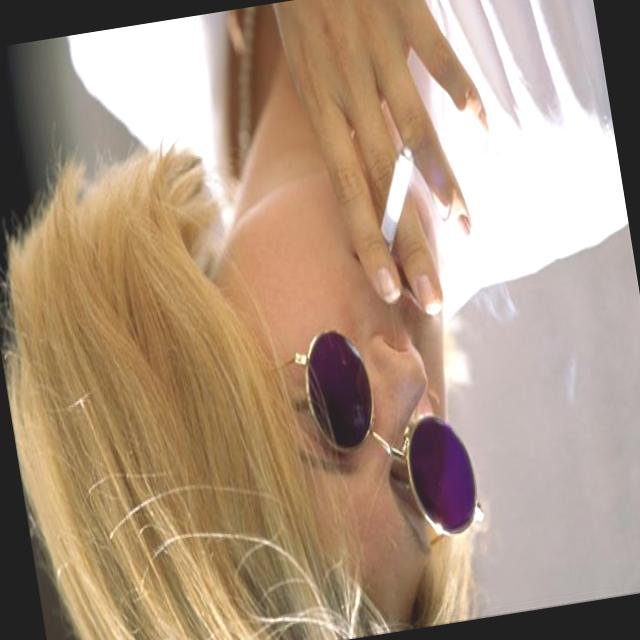cigarette: (357, 136, 436, 274)
